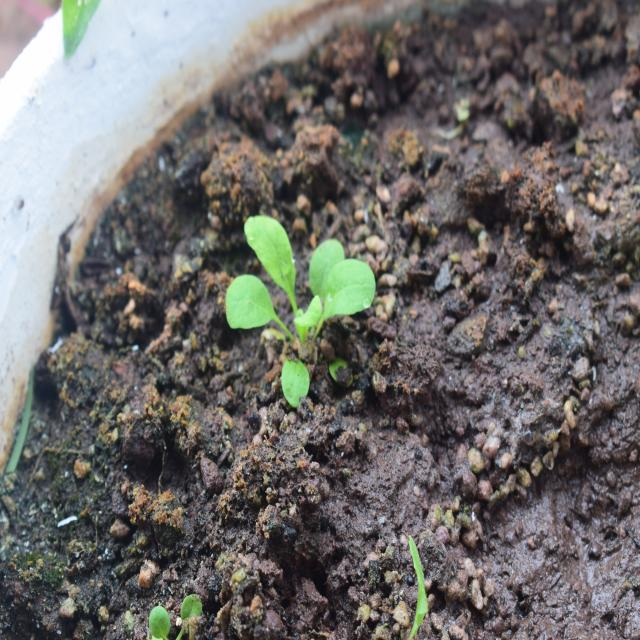Shepherd_Purse: (211, 201, 407, 389)
